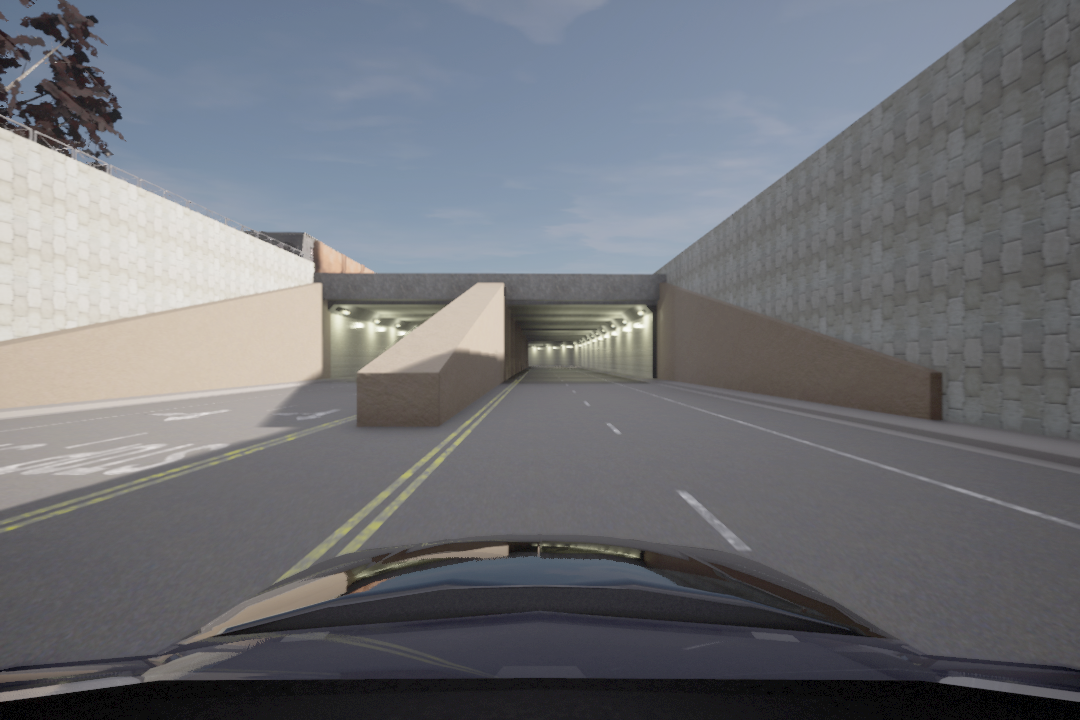RoadSign_forward_right: (154, 406, 232, 424), (272, 405, 342, 423)
